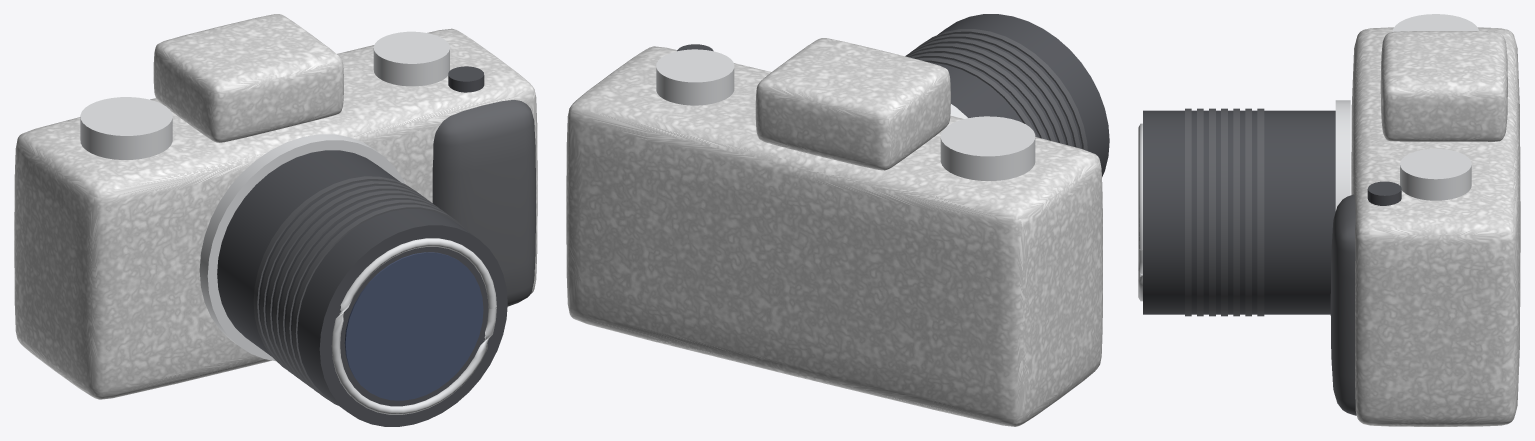
The model's file is camera.glb.
3 renders of one model, left to right at view 1: azimuth 30°, elevation 25°; view 2: azimuth 150°, elevation 25°; view 3: azimuth 270°, elevation 25°, orthographic. The views are drawn at different scales.
Visible parts, largest first — view 1: cam_body, cam_lens, cam_hump, cam_glass, cam_grip, cam_mount, cam_dial2, cam_glass_rim, cam_dial1, cam_rib0, cam_rib2, cam_rib5 (+5 smaller); view 2: cam_body, cam_hump, cam_lens, cam_dial2, cam_dial1, cam_rib0, cam_rib1, cam_rib2, cam_rib3, cam_rib4, cam_rib5, cam_rib6; view 3: cam_body, cam_lens, cam_hump, cam_grip, cam_dial1, cam_rib6, cam_mount, cam_rib0, cam_rib1, cam_rib2, cam_rib3, cam_rib4 (+4 smaller).
Part boxes in pixels (x1,y1,x2,y2): cam_body: (14,28,537,399); cam_lens: (217,150,507,426); cam_hump: (153,14,343,142); cam_glass: (344,252,483,400); cam_grip: (432,100,535,306); cam_mount: (199,134,404,361); cam_dial2: (80,97,172,159); cam_glass_rim: (331,238,496,414); cam_dial1: (373,31,449,86); cam_rib0: (292,204,466,405); cam_rib2: (279,195,446,387); cam_rib5: (260,181,425,373); cam_body: (566,46,1102,426); cam_hump: (755,38,950,170); cam_lens: (923,14,1109,176); cam_dial2: (940,116,1035,180); cam_dial1: (656,49,734,105); cam_rib0: (917,29,1087,150); cam_rib1: (910,34,1080,148); cam_rib2: (906,38,1072,146); cam_rib3: (905,43,1064,144); cam_rib4: (906,48,1055,141); cam_rib5: (910,53,1046,139); cam_rib6: (916,58,1037,137); cam_body: (1351,27,1520,426); cam_lens: (1143,110,1335,314); cam_hump: (1380,31,1507,141); cam_grip: (1330,194,1356,415); cam_dial1: (1400,149,1471,200); cam_rib6: (1257,108,1264,316); cam_mount: (1335,100,1350,210); cam_rib0: (1185,108,1191,316); cam_rib1: (1197,108,1203,316); cam_rib2: (1209,108,1215,316); cam_rib3: (1221,108,1227,316); cam_rib4: (1233,108,1239,316).
Bounding box in the file's own units: 12.99 × 7.73 × 10.11.
Materials: 5 (1 with a texture image).
